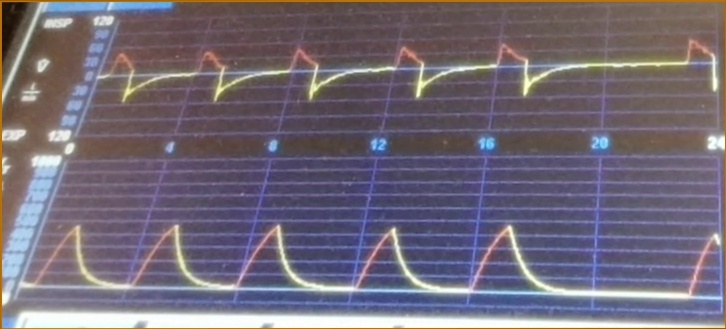Accumulation Flow: (116, 26, 717, 129)
Volume: (58, 186, 714, 310)
